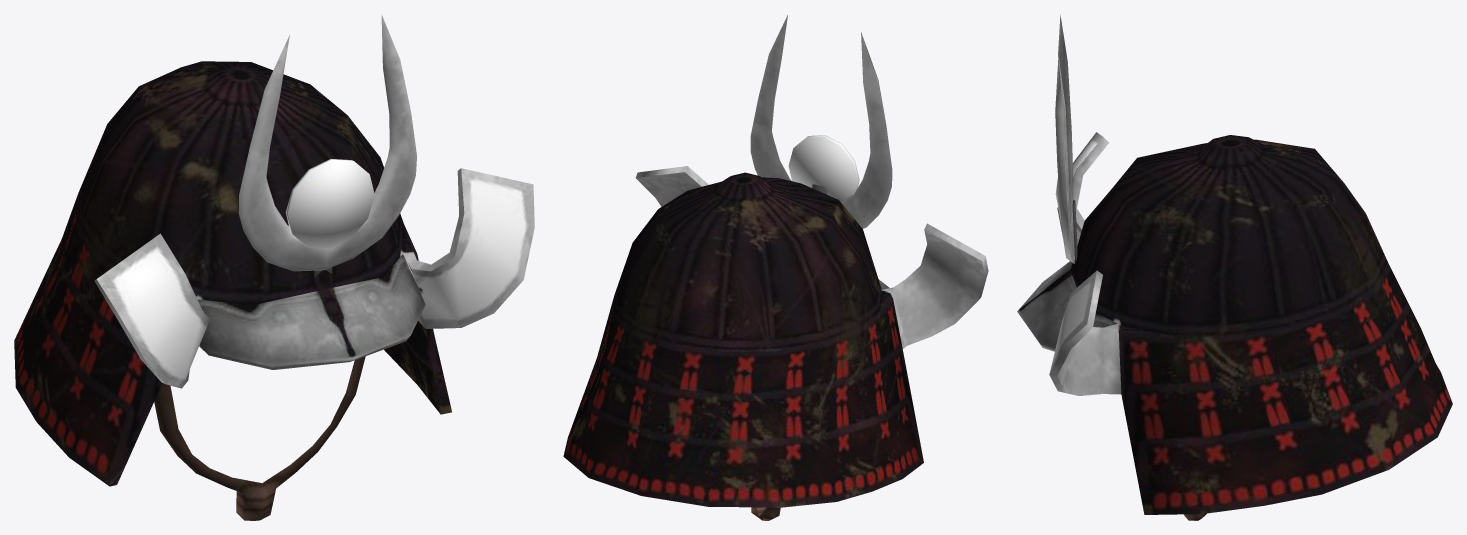
File: rider-helmet-slice-base.glb
3 views of the same model, side by side, from view 1: azimuth 30°, elevation 25°; view 2: azimuth 150°, elevation 25°; view 3: azimuth 270°, elevation 25° (orthographic). The views are drawn at different scales.
Bounding box in the file's own units: 0.3693 × 0.4513 × 0.3651.
1 material, 1 textured.
